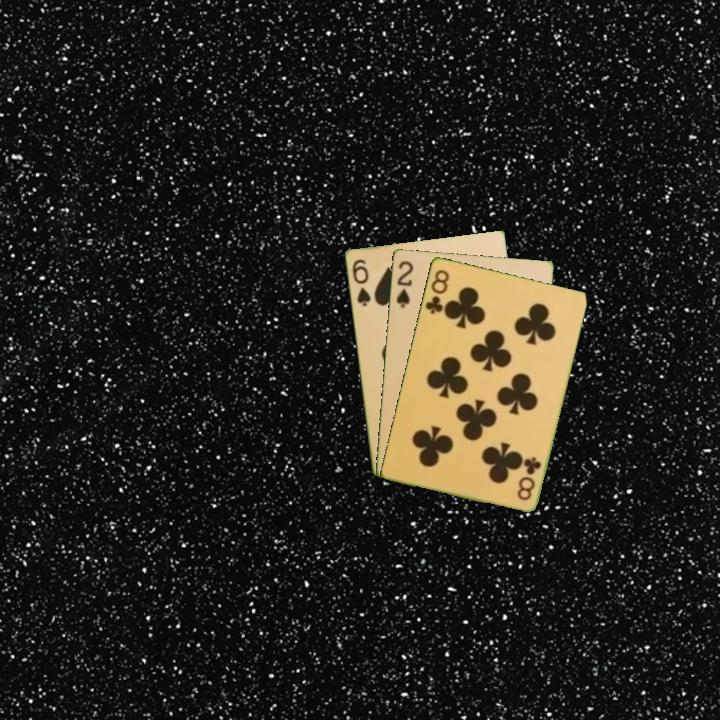2s: (392, 257, 416, 310)
6s: (348, 255, 373, 309)
8c: (421, 266, 452, 316), (513, 453, 544, 503)
